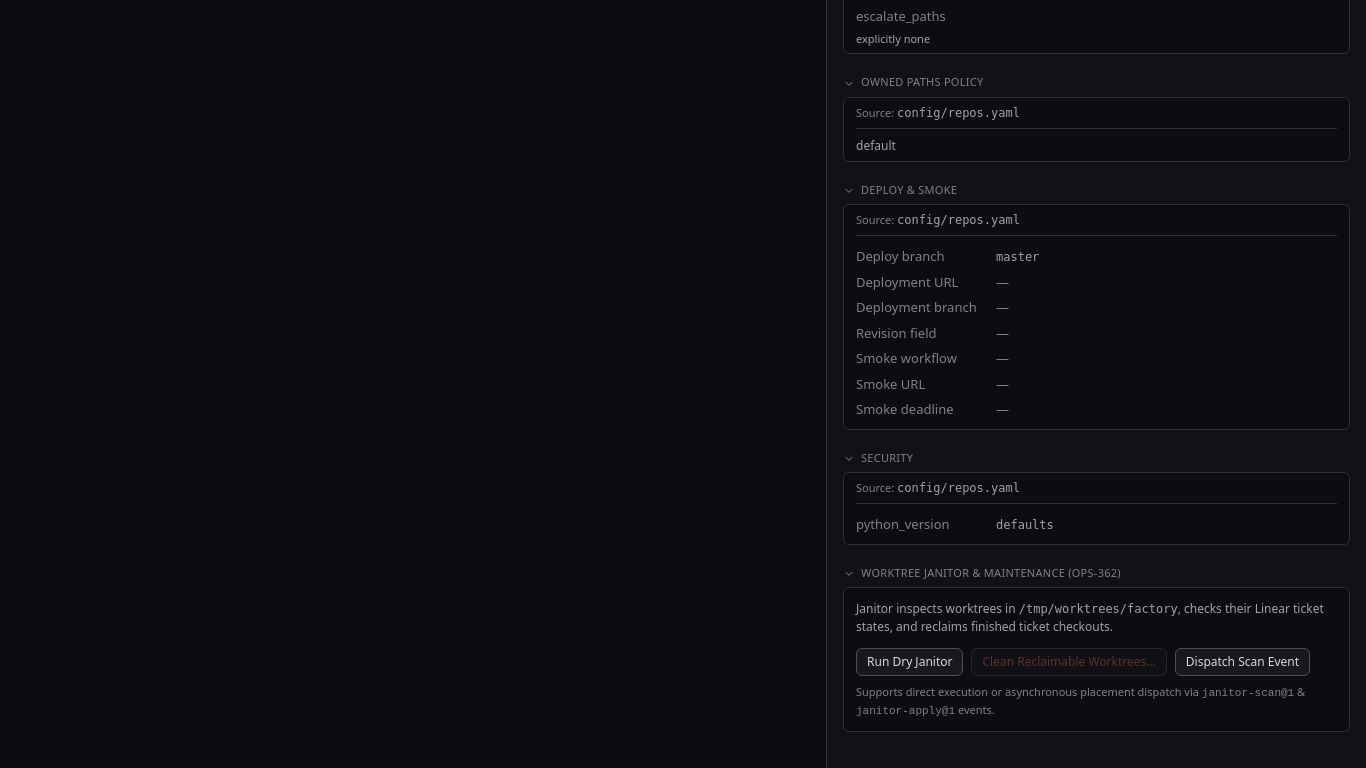
Test: Projects Clean Reclaimable Apply (WM-157) › Apply enables when dry found reclaimable worktrees and confirm can open
(page scrolled)
Click the button "Run Dry Janitor" at {"x": 910, "y": 662}, box [856, 648, 964, 676]
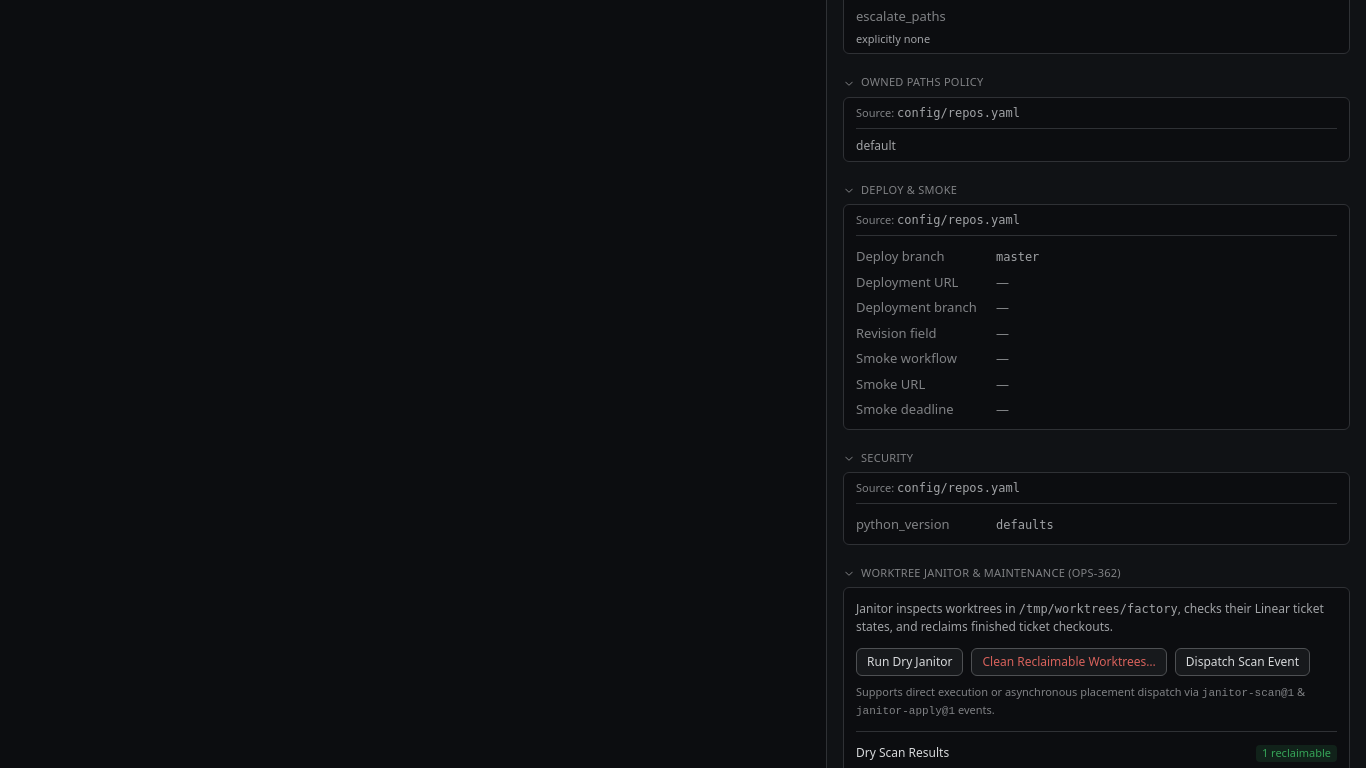
Check: the text "1 reclaimable" is shown, box [1256, 745, 1337, 762]
Check: the button "Clean Reclaimable Worktrees…" is enabled
Click the button "Clean Reclaimable Worktrees…" at {"x": 1069, "y": 662}, box [972, 648, 1167, 676]
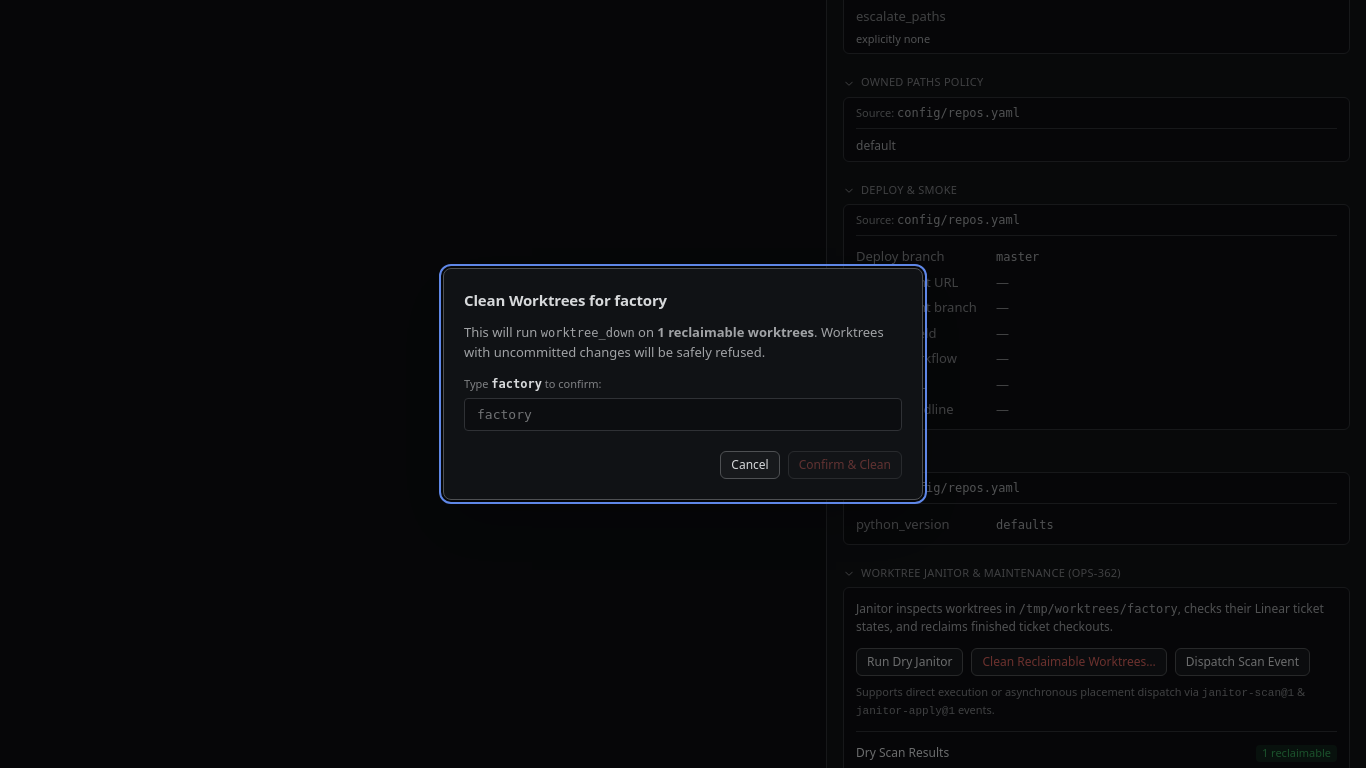
Check: the dialog is shown, box [443, 268, 923, 500]
Check: the text "Clean Worktrees for factory" is shown, box [464, 290, 667, 310]
